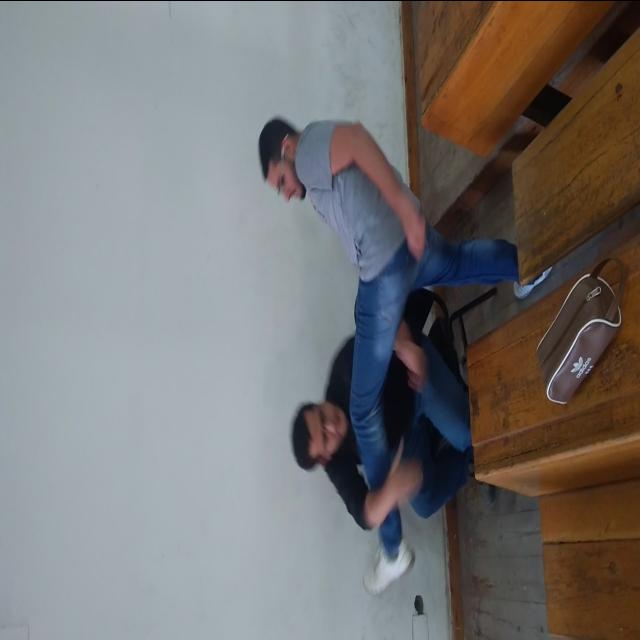Violence: (255, 110, 449, 578)
